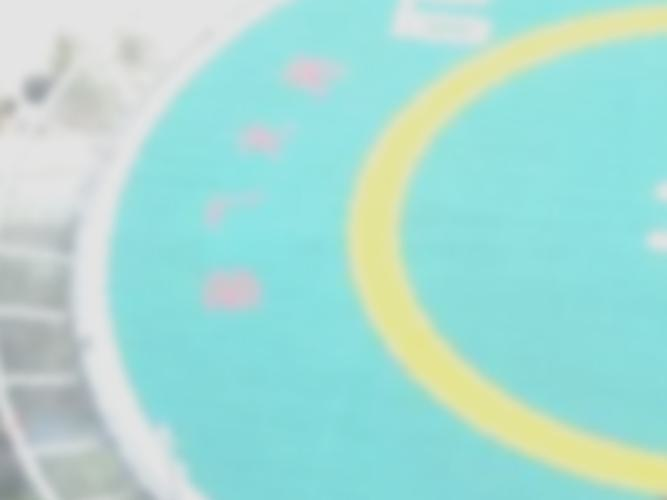Apron: (367, 39, 667, 455)
